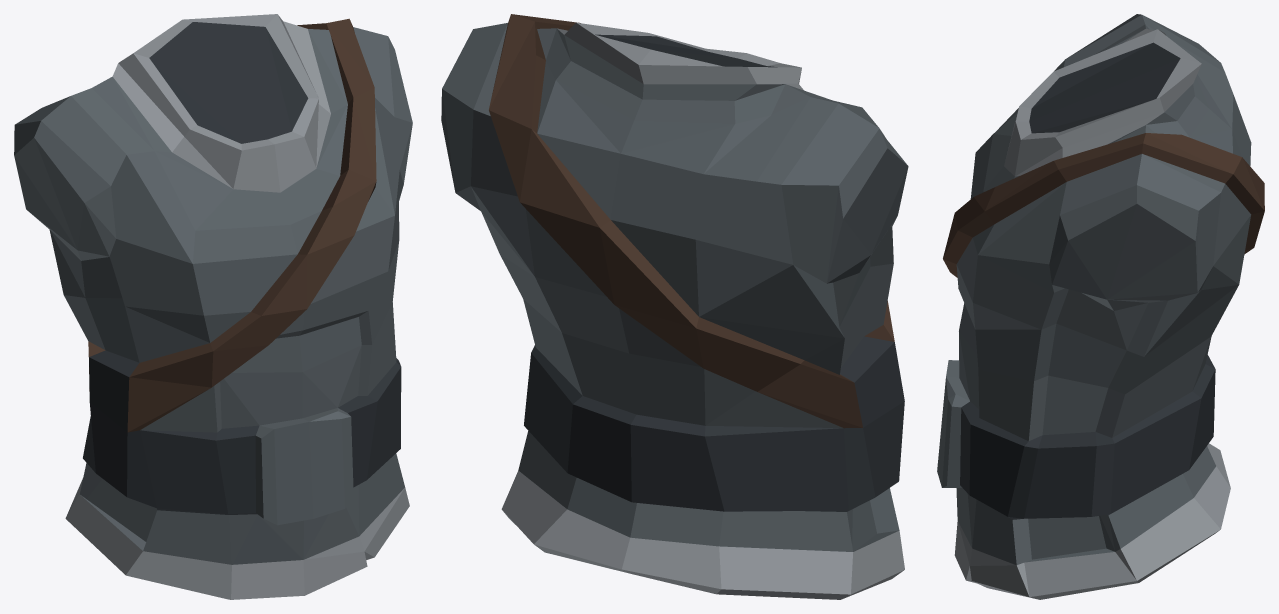
The model's file is Chr_Torso_Male_18_Static.fbx.
3 renders of one model, left to right at view 1: azimuth 30°, elevation 25°; view 2: azimuth 150°, elevation 25°; view 3: azimuth 270°, elevation 25°, orthographic. The views are drawn at different scales.
Parts seen in each view (by area): view 1: Chr_Torso_Male_18_Static; view 2: Chr_Torso_Male_18_Static; view 3: Chr_Torso_Male_18_Static.
Part boxes in pixels (left/top/right/bottom): Chr_Torso_Male_18_Static: left=14, top=14, right=412, bottom=599; Chr_Torso_Male_18_Static: left=441, top=14, right=908, bottom=599; Chr_Torso_Male_18_Static: left=937, top=14, right=1264, bottom=599.
Bounding box in the file's own units: 0.502 × 0.6569 × 0.391.
